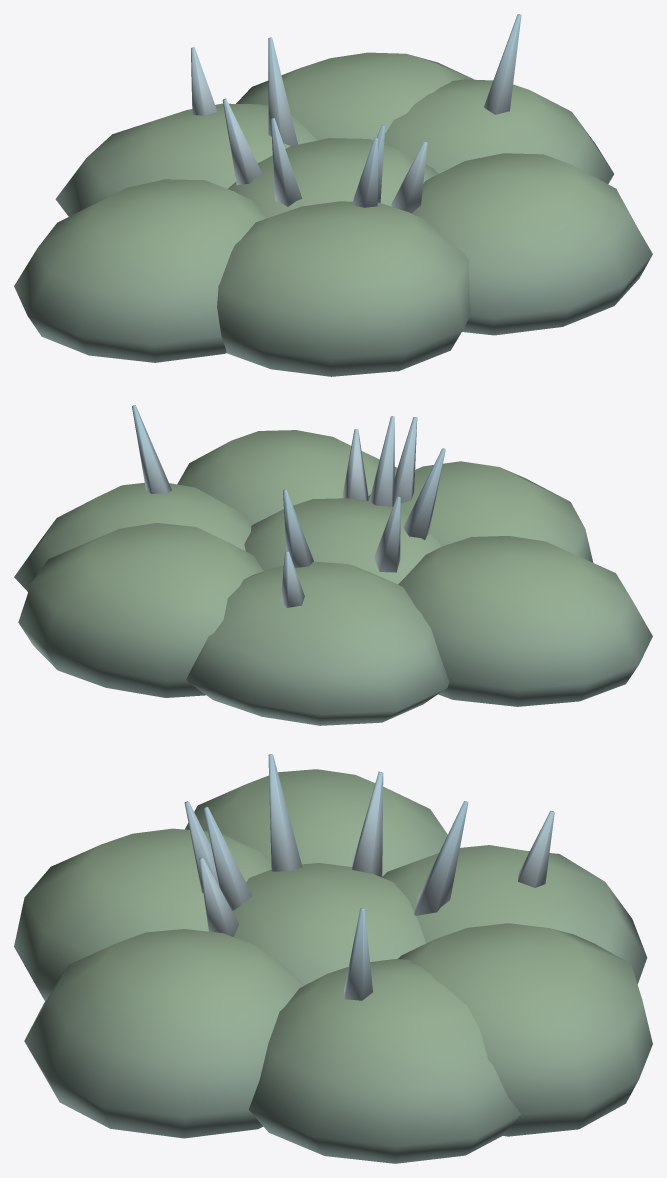
File: ing_ice_moss.glb
3 renders of one model, top to bottom at view 1: azimuth 30°, elevation 25°; view 2: azimuth 150°, elevation 25°; view 3: azimuth 270°, elevation 25°, orthographic. The views are drawn at different scales.
Parts seen in each view (by area): view 1: ing_ice_moss; view 2: ing_ice_moss; view 3: ing_ice_moss.
Boxes of the visible parts, x1,y1,x2,y2 form: ing_ice_moss: (14,14,652,376); ing_ice_moss: (14,405,652,725); ing_ice_moss: (14,754,652,1163).
Size of what is drawn, in the model's own units: 0.5036 by 0.1489 by 0.4026.
